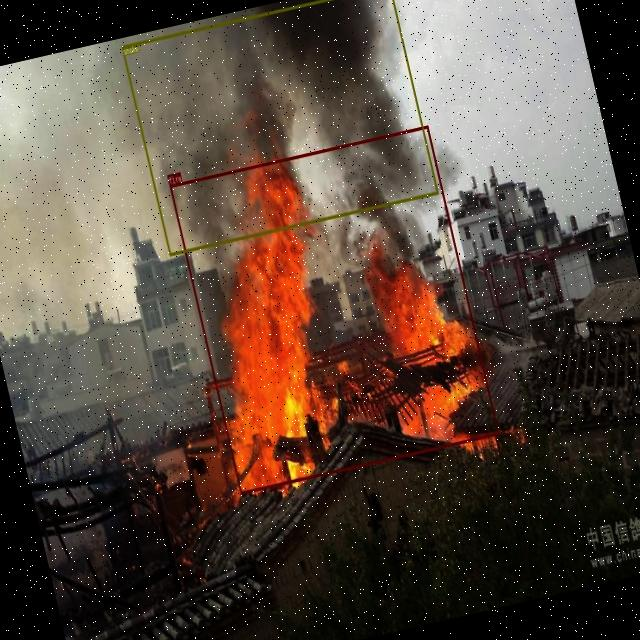fire: (168, 124, 498, 493)
smoke: (120, 0, 438, 255)
